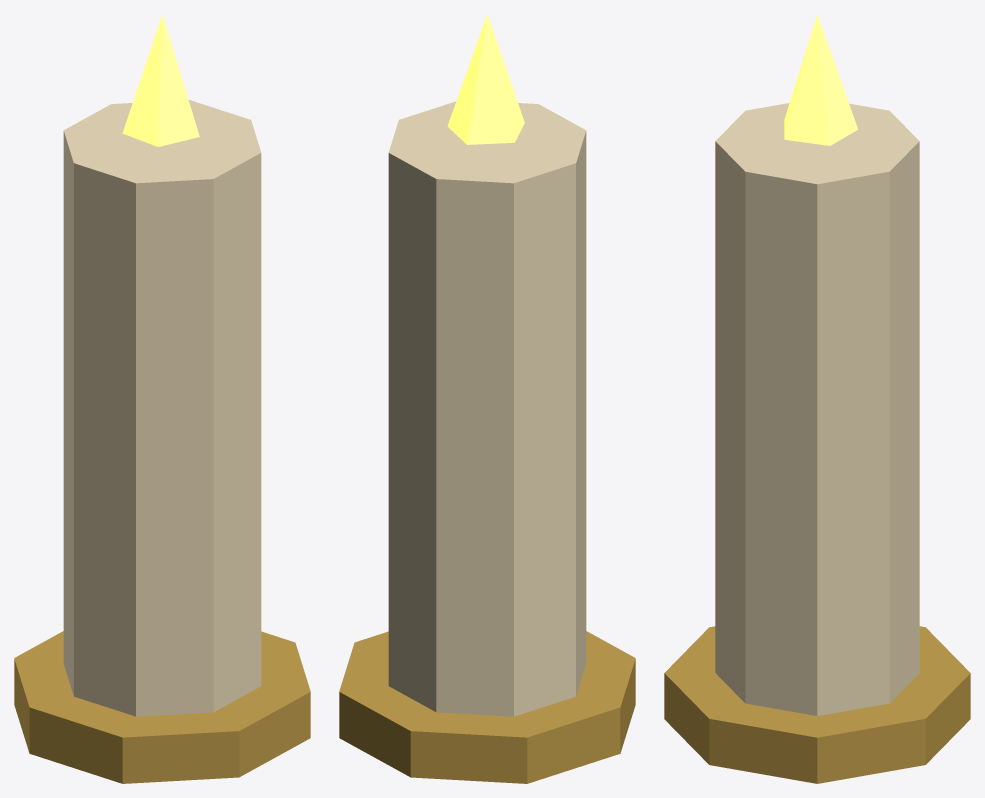
Rendered from candle.fbx.
The picture shows the model from 3 angles, left to right: view 1: azimuth 30°, elevation 25°; view 2: azimuth 150°, elevation 25°; view 3: azimuth 270°, elevation 25°; orthographic projection.
Parts seen in each view (by area): view 1: candle; view 2: candle; view 3: candle.
Part boxes in pixels (bbox=[...]): candle: bbox=[14, 14, 310, 783]; candle: bbox=[339, 14, 635, 783]; candle: bbox=[664, 14, 970, 783].
Bounding box in the file's own units: 0.24 × 0.61 × 0.24.
